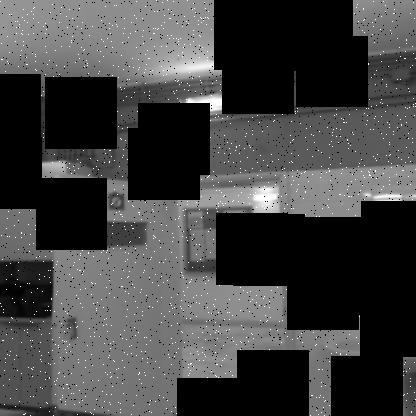Porte: (51, 172, 300, 416)
